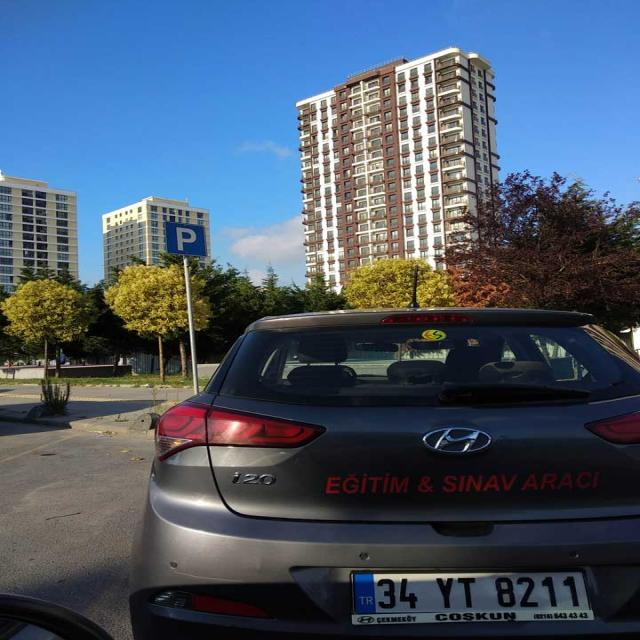park: (165, 219, 207, 257)
